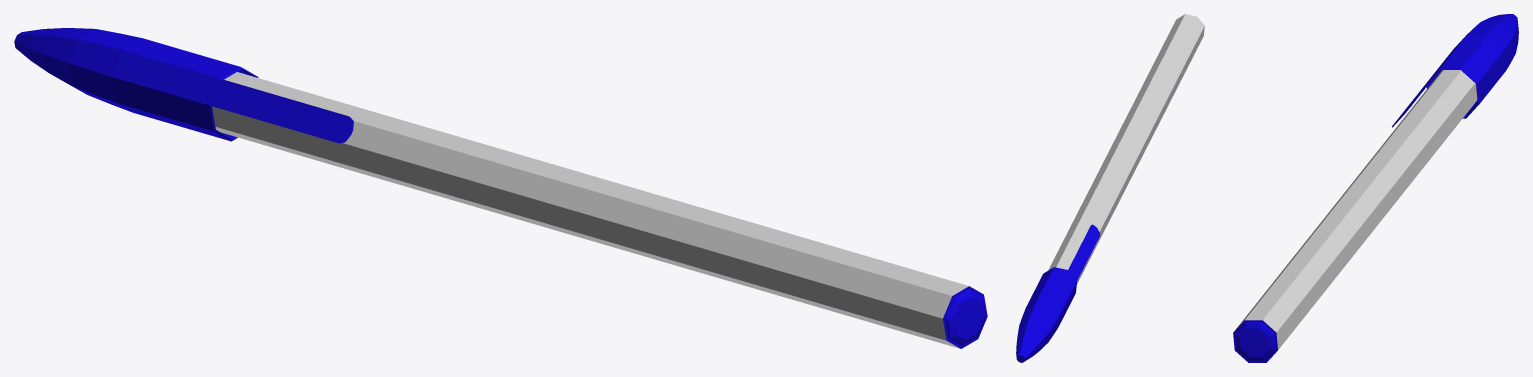
File: VJ_Boligraf.fbx
3 views of the same model, side by side, from view 1: azimuth 30°, elevation 25°; view 2: azimuth 150°, elevation 25°; view 3: azimuth 330°, elevation 25° (orthographic). The views are drawn at different scales.
Visible parts, largest first — view 1: Boligraf; view 2: Boligraf; view 3: Boligraf.
Boxes of the visible parts, x1=… form: Boligraf: x1=14, y1=28, x2=987, y2=348; Boligraf: x1=1016, y1=14, x2=1204, y2=362; Boligraf: x1=1233, y1=14, x2=1518, y2=362.
Bounding box in the file's own units: 0.9342 × 0.4419 × 3.1.
